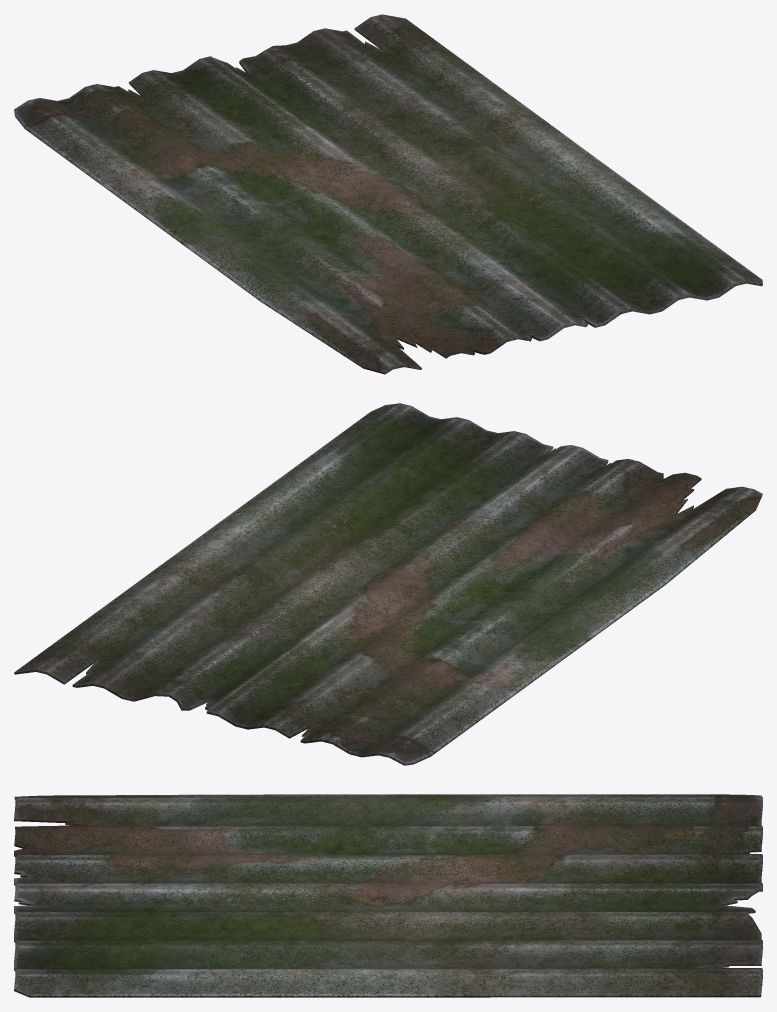
File: SM_Toles_ToleSmall.fbx
3 views of the same model, one above another, from view 1: azimuth 30°, elevation 25°; view 2: azimuth 150°, elevation 25°; view 3: azimuth 270°, elevation 25° (orthographic). The views are drawn at different scales.
Visible parts, largest first — view 1: SM_Toles_ToleSmall_LOD0; view 2: SM_Toles_ToleSmall_LOD0; view 3: SM_Toles_ToleSmall_LOD0.
Boxes of the visible parts, x1=… form: SM_Toles_ToleSmall_LOD0: x1=14, y1=14, x2=762, y2=374; SM_Toles_ToleSmall_LOD0: x1=14, y1=403, x2=762, y2=765; SM_Toles_ToleSmall_LOD0: x1=14, y1=794, x2=762, y2=997.
Size of the model in its own units: 206 by 326 by 5.6.
